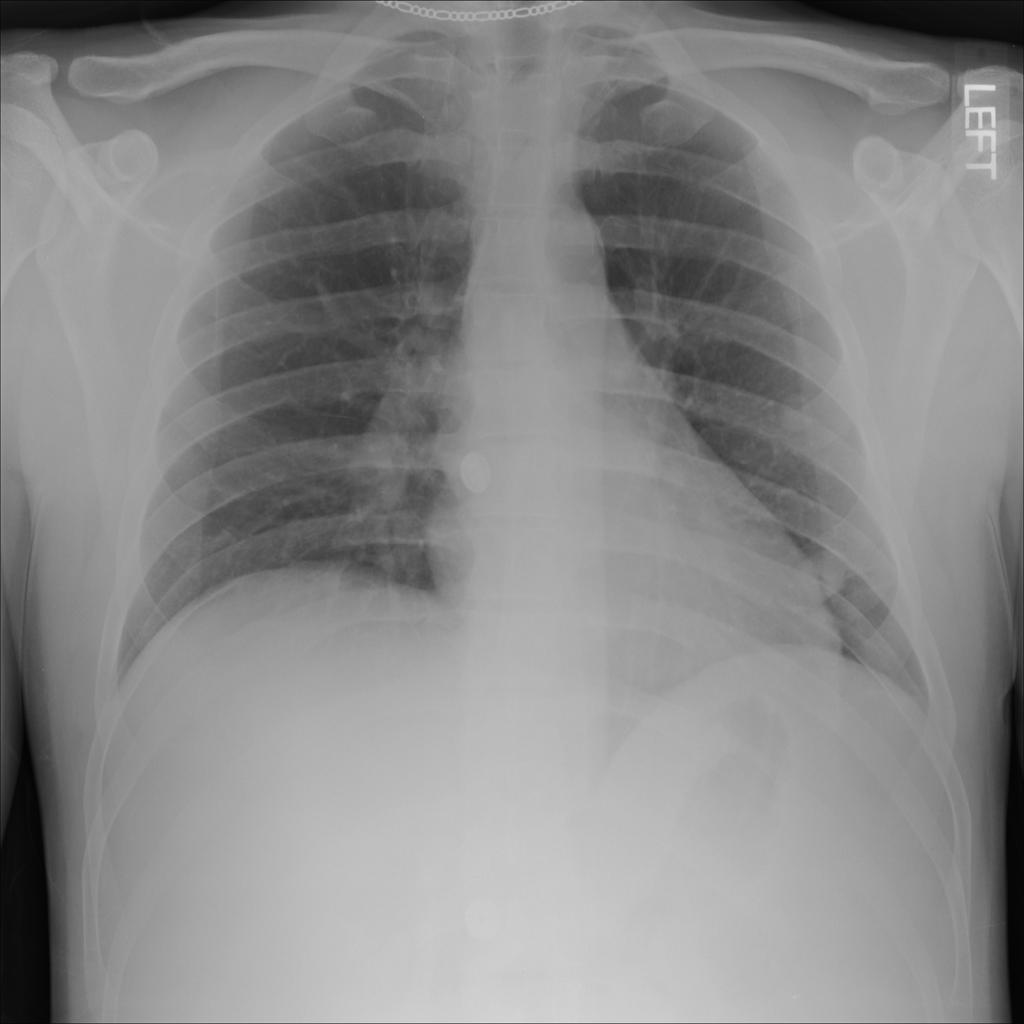nodule: (791, 533, 862, 610), (765, 375, 830, 453)
